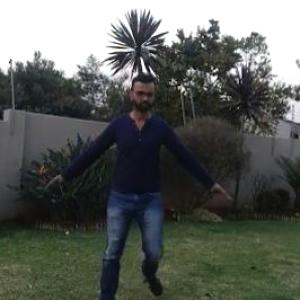land: (52, 68, 240, 299)
